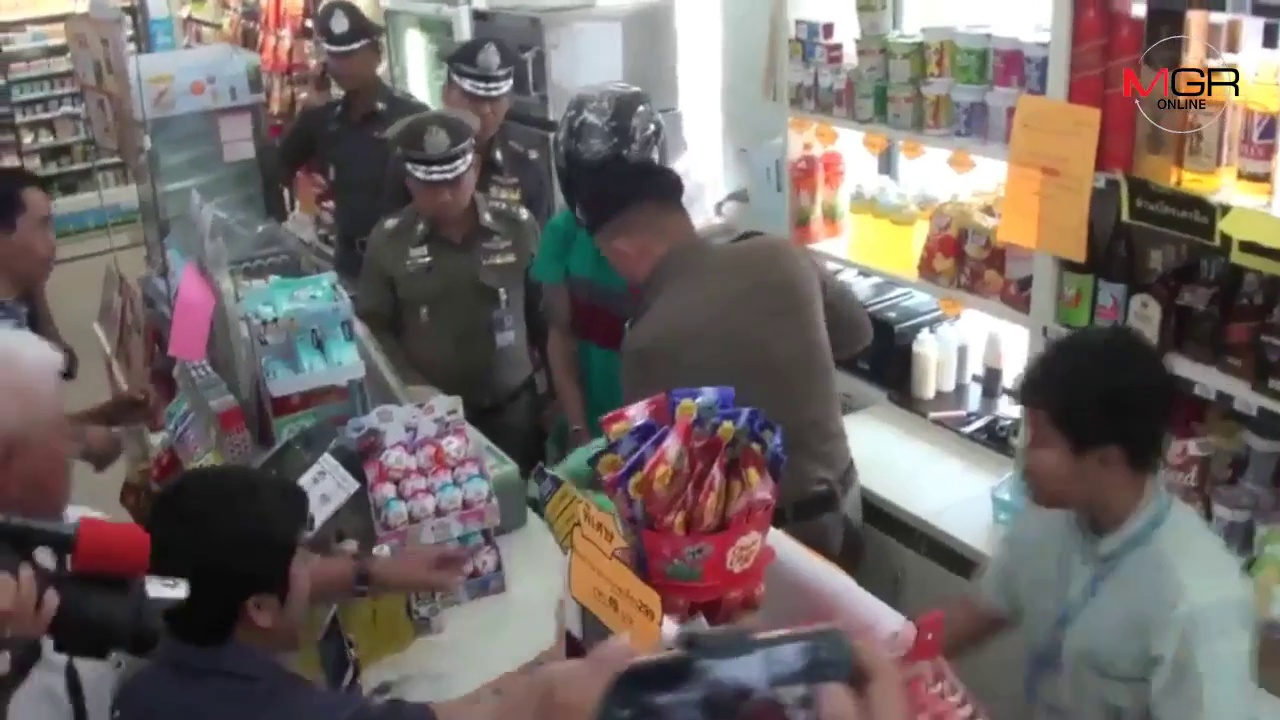helmet: (556, 78, 674, 160)
